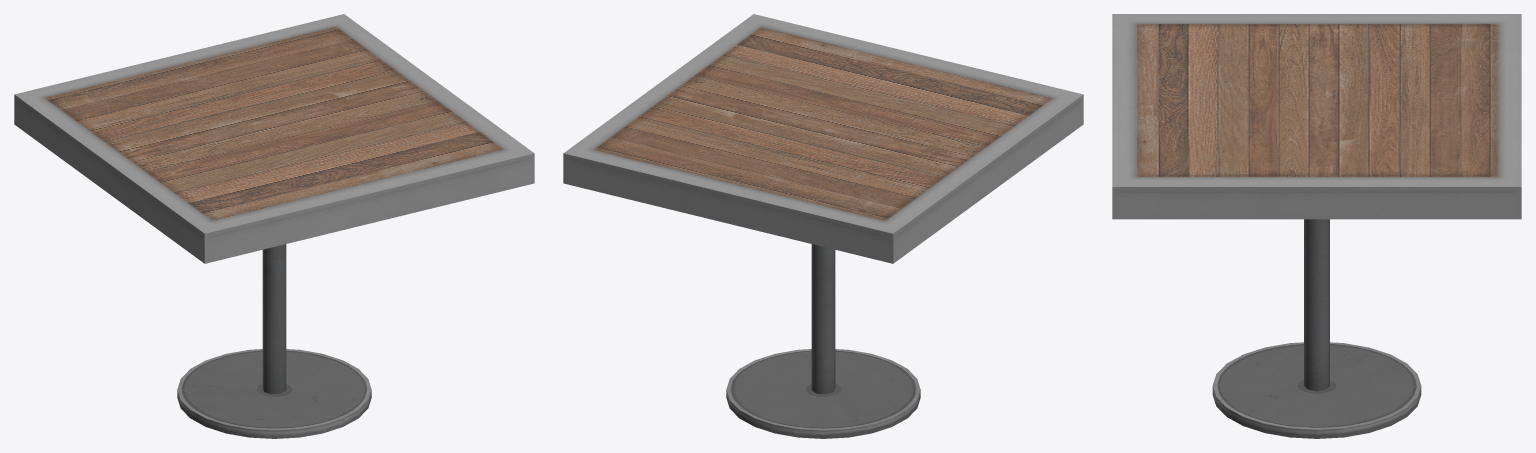
Rendered from MB_Cafe_Table_01.fbx.
3 views of the same model, side by side, from view 1: azimuth 30°, elevation 25°; view 2: azimuth 150°, elevation 25°; view 3: azimuth 270°, elevation 25° (orthographic). The views are drawn at different scales.
Parts seen in each view (by area): view 1: MB_Cafe_Table_01; view 2: MB_Cafe_Table_01; view 3: MB_Cafe_Table_01.
Boxes of the visible parts, <box> form: MB_Cafe_Table_01: <box>14,14,534,438</box>; MB_Cafe_Table_01: <box>563,14,1083,438</box>; MB_Cafe_Table_01: <box>1112,14,1521,438</box>.
Bounding box in the file's own units: 104 × 82.89 × 104.
